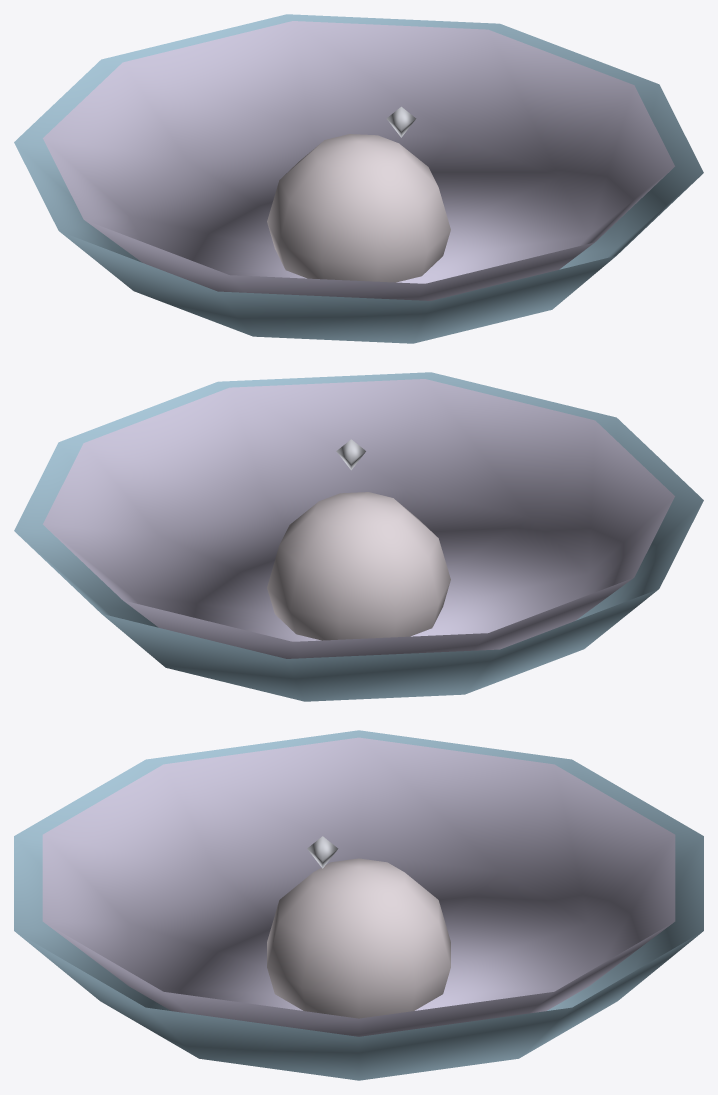
Rendered from col_river_pearl.gltf.
3 views of the same model, one above another, from view 1: azimuth 30°, elevation 25°; view 2: azimuth 150°, elevation 25°; view 3: azimuth 270°, elevation 25° (orthographic). The views are drawn at different scales.
Visible parts, largest first — view 1: col_river_pearl; view 2: col_river_pearl; view 3: col_river_pearl.
Part boxes in pixels (x1,y1,x2,y2): col_river_pearl: [14, 14, 703, 343]; col_river_pearl: [14, 372, 703, 701]; col_river_pearl: [14, 730, 703, 1080].
Size of what is drawn, in the model's own units: 0.12 by 0.04 by 0.1141.
